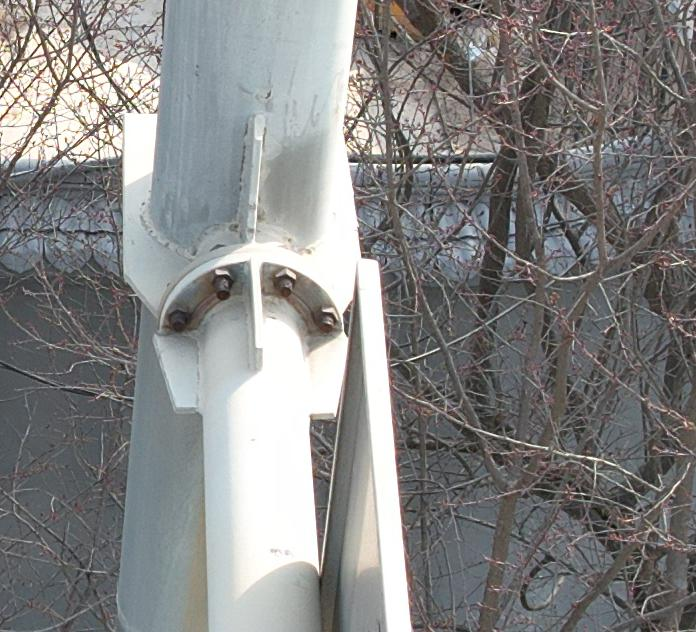vague: (205, 265, 235, 295), (164, 304, 190, 333), (313, 305, 340, 332), (272, 266, 298, 292)
